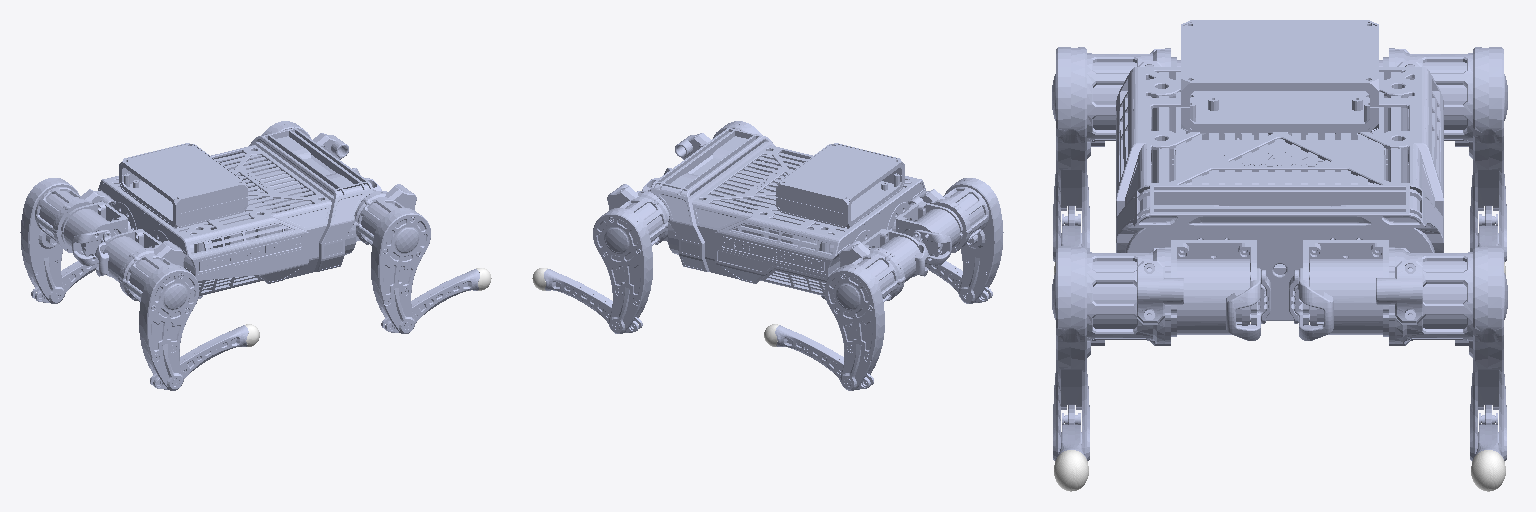
robot.urdf — Opendoge:
<?xml version="1.0" encoding="utf-8"?>
<!-- This URDF was automatically created by SolidWorks to URDF Exporter! Originally created by Stephen Brawner (brawner@gmail.com) 
     Commit Version: 1.5.1-0-g916b5db  Build Version: 1.5.7152.31018
     For more information, please see http://wiki.ros.org/sw_urdf_exporter -->
<robot
  name="Opendoge">
  <link
    name="base_link">
    <inertial>
      <origin
        xyz="0.000134773648275938 1.36367968484041E-06 0.000770353067310358"
        rpy="0 0 0" />
      <mass
        value="2.2352588780603" />
      <inertia
        ixx="0.0054247"
        ixy="1.29E-06"
        ixz="-0.0000959"
        iyy="0.0099197"
        iyz="-0.0000002"
        izz="0.013453" />
    </inertial>
    <visual>
      <origin
        xyz="0 0 0"
        rpy="0 0 0" />
      <geometry>
        <mesh
          filename="../meshes/base_link.STL" />
      </geometry>
      <material
        name="">
        <color
          rgba="0.792156862745098 0.819607843137255 0.933333333333333 1" />
      </material>
    </visual>
    <collision>
      <origin
        xyz="0 0 0.015"
        rpy="0 0 0" />
      <geometry>
        <box size="0.17 0.09 0.1" />
      </geometry>
    </collision>
  </link>
  <link
    name="FL_hip">
    <inertial>
      <origin
        xyz="-0.0019419 -0.00069982 1.3745E-06"
        rpy="0 0 0" />
      <mass
        value="0.27308" />
      <inertia
        ixx="8.83E-05"
        ixy="-0.00000146"
        ixz="0"
        iyy="8.839E-05"
        iyz="-0.00000001"
        izz="0.00010203" />
    </inertial>
    <visual>
      <origin
        xyz="0 0 0"
        rpy="0 0 0" />
      <geometry>
        <mesh
          filename="../meshes/FL_hip.STL" />
      </geometry>
      <material
        name="">
        <color
          rgba="0.79216 0.81961 0.93333 1" />
      </material>
    </visual>
    <collision>
      <origin
        xyz="0.0 0 0"
        rpy="1.56 1.56 0" />
      <geometry>
        <cylinder length="0.045" radius="0.03" />
      </geometry>
    </collision>
  </link>
  <joint
    name="FL_hip_joint"
    type="revolute">
    <origin
      xyz="0.1425 0.039989 0"
      rpy="0 0 0" />
    <parent
      link="base_link" />
    <child
      link="FL_hip" />
    <axis
      xyz="1 0 0" />
    <limit
      lower="-0.785"
      upper="0.26"
      effort="6"
      velocity="10.472" />
  </joint>
  <link
    name="FL_thigh">
    <inertial>
      <origin
        xyz="-0.0003843 -0.028095 -0.0056139"
        rpy="0 0 0" />
      <mass
        value="0.344" />
      <inertia
        ixx="0.00030277"
        ixy="-0.0000149"
        ixz="1.995E-05"
        iyy="0.00024471"
        iyz="-0.00005947"
        izz="0.00018346" />
    </inertial>
    <visual>
      <origin
        xyz="0 0 0"
        rpy="0 0 0" />
      <geometry>
        <mesh
          filename="../meshes/FL_thigh.STL" />
      </geometry>
      <material
        name="">
        <color
          rgba="0.79216 0.81961 0.93333 1" />
      </material>
    </visual>
    <collision>
      <origin
        xyz="0.004 0.0 -0.028"
        rpy="0 0.45 0" />
      <geometry>
        <box size="0.02 0.025 0.07" />
      </geometry>
    </collision>
  </link>
  <joint
    name="FL_thigh_joint"
    type="revolute">
    <origin
      xyz="0 0.08615 0"
      rpy="0 0 0" />
    <parent
      link="FL_hip" />
    <child
      link="FL_thigh" />
    <axis
      xyz="0 1 0" />
    <limit
      lower="-0.785"
      upper="1.134"
      effort="6"
      velocity="10.472" />
  </joint>
  <link
    name="FL_calf">
    <inertial>
      <origin
        xyz="0.0049765 -1.1726E-05 -0.047529"
        rpy="0 0 0" />
      <mass
        value="0.023132" />
      <inertia
        ixx="2.88E-05"
        ixy="0"
        ixz="9E-08"
        iyy="2.93E-05"
        iyz="0"
        izz="1.05E-06" />
    </inertial>
    <visual>
      <origin
        xyz="0 0 0"
        rpy="0 0 0" />
      <geometry>
        <mesh
          filename="../meshes/FL_calf.STL" />
      </geometry>
      <material
        name="">
        <color
          rgba="0.79216 0.81961 0.93333 1" />
      </material>
    </visual>
    <collision>
      <origin
        xyz="0.006 0 -0.040"
        rpy="0 -0.0 0" />
      <geometry>
        <cylinder length="0.05" radius="0.01" />
      </geometry>
    </collision>
  </link>
  <joint
    name="FL_calf_joint"
    type="revolute">
    <origin
      xyz="0 0 -0.0999999999999995"
      rpy="0 0 0" />
    <parent
      link="FL_thigh" />
    <child
      link="FL_calf" />
    <axis
      xyz="0 1 0" />
    <limit
      lower="-2.68"
      upper="-1.04"
      effort="9"
      velocity="6.981" />
  </joint>
  <link
    name="FL_foot">
    <inertial>
      <origin
        xyz="-0.000865572631019856 -1.88410314572174E-07 -0.00223318694318475"
        rpy="0 0 0" />
      <mass
        value="0.003984611677171" />
      <inertia
        ixx="2.4E-07"
        ixy="0"
        ixz="-0.00000002"
        iyy="2.6E-07"
        iyz="0"
        izz="2.9E-07" />
    </inertial>
    <visual>
      <origin
        xyz="0 0 0"
        rpy="0 0 0" />
      <geometry>
        <mesh
          filename="../meshes/FL_foot.STL" />
      </geometry>
      <material
        name="">
        <color
          rgba="1 1 1 1" />
      </material>
    </visual>
    <collision>
      <origin
        xyz="0 0 0"
        rpy="0 0 0" />
      <geometry>
        <sphere radius="0.015" />
      </geometry>
    </collision>
  </link>
  <joint
    name="FL_foot_joint"
    type="fixed" dont_collapse="true">
    <origin
      xyz="-1.19560528428764E-05 0 -0.0993915326022981"
      rpy="0 0 0" />
    <parent
      link="FL_calf" />
    <child
      link="FL_foot" />
    <axis
      xyz="0 0 0" />
  </joint>
  <link
    name="FR_hip">
    <inertial>
      <origin
        xyz="-0.0019419 0.00069983 1.3735E-06"
        rpy="0 0 0" />
      <mass
        value="0.27308" />
      <inertia
        ixx="8.83E-05"
        ixy="1.46E-06"
        ixz="0"
        iyy="8.839E-05"
        iyz="1E-08"
        izz="0.00010203" />
    </inertial>
    <visual>
      <origin
        xyz="0 0 0"
        rpy="0 0 0" />
      <geometry>
        <mesh
          filename="../meshes/FR_hip.STL" />
      </geometry>
      <material
        name="">
        <color
          rgba="0.79216 0.81961 0.93333 1" />
      </material>
    </visual>
    <collision>
      <origin
        xyz="0.0 0 0"
        rpy="1.56 1.56 0" />
      <geometry>
        <cylinder length="0.045" radius="0.03" />
      </geometry>
    </collision>
  </link>
  <joint
    name="FR_hip_joint"
    type="revolute">
    <origin
      xyz="0.142499999999858 -0.0400749999976656 0"
      rpy="0 0 0" />
    <parent
      link="base_link" />
    <child
      link="FR_hip" />
    <axis
      xyz="1 0 0" />
    <limit
      lower="-0.26"
      upper="0.785"
      effort="6"
      velocity="10.472" />
  </joint>
  <link
    name="FR_thigh">
    <inertial>
      <origin
        xyz="-0.00039283 0.028155 -0.0056112"
        rpy="0 0 0" />
      <mass
        value="0.344" />
      <inertia
        ixx="0.00030298"
        ixy="1.489E-05"
        ixz="1.994E-05"
        iyy="0.00024472"
        iyz="5.959E-05"
        izz="0.00018366" />
    </inertial>
    <visual>
      <origin
        xyz="0 0 0"
        rpy="0 0 0" />
      <geometry>
        <mesh
          filename="../meshes/FR_thigh.STL" />
      </geometry>
      <material
        name="">
        <color
          rgba="0.79216 0.81961 0.93333 1" />
      </material>
    </visual>
    <collision>
      <origin
        xyz="0.004 0.0 -0.028"
        rpy="0 0.45 0" />
      <geometry>
        <box size="0.02 0.025 0.07" />
      </geometry>
    </collision>
  </link>
  <joint
    name="FR_thigh_joint"
    type="revolute">
    <origin
      xyz="0 -0.0861000000019044 0"
      rpy="0 0 0" />
    <parent
      link="FR_hip" />
    <child
      link="FR_thigh" />
    <axis
      xyz="0 1 0" />
    <limit
      lower="-0.785"
      upper="1.134"
      effort="6"
      velocity="10.472" />
  </joint>
  <link
    name="FR_calf">
    <inertial>
      <origin
        xyz="0.00497648448877838 -1.17258056406416E-05 -0.0475293389060001"
        rpy="0 0 0" />
      <mass
        value="0.0231322296621475" />
      <inertia
        ixx="2.88E-05"
        ixy="0"
        ixz="9E-08"
        iyy="2.93E-05"
        iyz="0"
        izz="1.05E-06" />
    </inertial>
    <visual>
      <origin
        xyz="0 0 0"
        rpy="0 0 0" />
      <geometry>
        <mesh
          filename="../meshes/FR_calf.STL" />
      </geometry>
      <material
        name="">
        <color
          rgba="0.792156862745098 0.819607843137255 0.933333333333333 1" />
      </material>
    </visual>
    <collision>
      <origin
        xyz="0.006 0 -0.040"
        rpy="0 -0.0 0" />
      <geometry>
        <cylinder length="0.05" radius="0.01" />
      </geometry>
    </collision>
  </link>
  <joint
    name="FR_calf_joint"
    type="revolute">
    <origin
      xyz="0 0 -0.0999999999999996"
      rpy="0 0 0" />
    <parent
      link="FR_thigh" />
    <child
      link="FR_calf" />
    <axis
      xyz="0 1 0" />
    <limit
      lower="-2.68"
      upper="-1.04"
      effort="9"
      velocity="6.981" />
  </joint>
  <link
    name="FR_foot">
    <inertial>
      <origin
        xyz="-0.00086557 -1.8841E-07 -0.0022332"
        rpy="0 0 0" />
      <mass
        value="0.0039846" />
      <inertia
        ixx="2.4E-07"
        ixy="0"
        ixz="-0.00000002"
        iyy="2.6E-07"
        iyz="0"
        izz="2.9E-07" />
    </inertial>
    <visual>
      <origin
        xyz="0 0 0"
        rpy="0 0 0" />
      <geometry>
        <mesh
          filename="../meshes/FR_foot.STL" />
      </geometry>
      <material
        name="">
        <color
          rgba="1 1 1 1" />
      </material>
    </visual>
    <collision>
      <origin
        xyz="0 0 0"
        rpy="0 0 0" />
      <geometry>
        <sphere radius="0.015" />
      </geometry>
    </collision>
  </link>
  <joint
    name="FR_foot_joint"
    type="fixed" dont_collapse="true">
    <origin
      xyz="-1.19560528428764E-05 0 -0.0993915326022981"
      rpy="0 0 0" />
    <parent
      link="FR_calf" />
    <child
      link="FR_foot" />
    <axis
      xyz="0 0 0" />
  </joint>
  <link
    name="RL_hip">
    <inertial>
      <origin
        xyz="0.0019419 -0.00069983 1.3735E-06"
        rpy="0 0 0" />
      <mass
        value="0.27308" />
      <inertia
        ixx="8.83E-05"
        ixy="1.46E-06"
        ixz="0"
        iyy="8.839E-05"
        iyz="-0.00000001"
        izz="0.00010203" />
    </inertial>
    <visual>
      <origin
        xyz="0 0 0"
        rpy="0 0 0" />
      <geometry>
        <mesh
          filename="../meshes/RL_hip.STL" />
      </geometry>
      <material
        name="">
        <color
          rgba="0.79216 0.81961 0.93333 1" />
      </material>
    </visual>
    <collision>
      <origin
        xyz="0.0 0 0"
        rpy="1.56 1.56 0" />
      <geometry>
        <cylinder length="0.045" radius="0.03" />
      </geometry>
    </collision>
  </link>
  <joint
    name="RL_hip_joint"
    type="revolute">
    <origin
      xyz="-0.1425 0.040025 0"
      rpy="0 0 0" />
    <parent
      link="base_link" />
    <child
      link="RL_hip" />
    <axis
      xyz="1 0 0" />
    <limit
      lower="-0.785"
      upper="0.26"
      effort="6"
      velocity="10.472" />
  </joint>
  <link
    name="RL_thigh">
    <inertial>
      <origin
        xyz="-0.0003843 -0.028095 -0.0056139"
        rpy="0 0 0" />
      <mass
        value="0.344" />
      <inertia
        ixx="0.00030277"
        ixy="-0.0000149"
        ixz="1.995E-05"
        iyy="0.00024471"
        iyz="-0.00005947"
        izz="0.00018346" />
    </inertial>
    <visual>
      <origin
        xyz="0 0 0"
        rpy="0 0 0" />
      <geometry>
        <mesh
          filename="../meshes/RL_thigh.STL" />
      </geometry>
      <material
        name="">
        <color
          rgba="0.79216 0.81961 0.93333 1" />
      </material>
    </visual>
    <collision>
      <origin
        xyz="0.004 0.0 -0.028"
        rpy="0 0.45 0" />
      <geometry>
        <box size="0.02 0.025 0.07" />
      </geometry>
    </collision>
  </link>
  <joint
    name="RL_thigh_joint"
    type="revolute">
    <origin
      xyz="0 0.08615 0"
      rpy="0 0 0" />
    <parent
      link="RL_hip" />
    <child
      link="RL_thigh" />
    <axis
      xyz="0 1 0" />
    <limit
      lower="-0.785"
      upper="1.134"
      effort="6"
      velocity="10.472" />
  </joint>
  <link
    name="RL_calf">
    <inertial>
      <origin
        xyz="0.0049765 -1.1726E-05 -0.047529"
        rpy="0 0 0" />
      <mass
        value="0.023132" />
      <inertia
        ixx="2.88E-05"
        ixy="0"
        ixz="9E-08"
        iyy="2.93E-05"
        iyz="0"
        izz="1.05E-06" />
    </inertial>
    <visual>
      <origin
        xyz="0 0 0"
        rpy="0 0 0" />
      <geometry>
        <mesh
          filename="../meshes/RL_calf.STL" />
      </geometry>
      <material
        name="">
        <color
          rgba="0.79216 0.81961 0.93333 1" />
      </material>
    </visual>
    <collision>
      <origin
        xyz="0.006 0 -0.040"
        rpy="0 -0.0 0" />
      <geometry>
        <cylinder length="0.05" radius="0.01" />
      </geometry>
    </collision>
  </link>
  <joint
    name="RL_calf_joint"
    type="revolute">
    <origin
      xyz="0 0 -0.0999999999999996"
      rpy="0 0 0" />
    <parent
      link="RL_thigh" />
    <child
      link="RL_calf" />
    <axis
      xyz="0 1 0" />
    <limit
      lower="-2.68"
      upper="-1.04"
      effort="9"
      velocity="6.981" />
  </joint>
  <link
    name="RL_foot">
    <inertial>
      <origin
        xyz="-0.00086557 -1.8841E-07 -0.0022332"
        rpy="0 0 0" />
      <mass
        value="0.0039846" />
      <inertia
        ixx="2.4E-07"
        ixy="0"
        ixz="-0.00000002"
        iyy="2.6E-07"
        iyz="0"
        izz="2.9E-07" />
    </inertial>
    <visual>
      <origin
        xyz="0 0 0"
        rpy="0 0 0" />
      <geometry>
        <mesh
          filename="../meshes/RL_foot.STL" />
      </geometry>
      <material
        name="">
        <color
          rgba="1 1 1 1" />
      </material>
    </visual>
    <collision>
      <origin
        xyz="0 0 0"
        rpy="0 0 0" />
      <geometry>
        <sphere radius="0.015" />
      </geometry>
    </collision>
  </link>
  <joint
    name="RL_foot_joint"
    type="fixed" dont_collapse="true">
    <origin
      xyz="-1.19560528427792E-05 0 -0.099391532602298"
      rpy="0 0 0" />
    <parent
      link="RL_calf" />
    <child
      link="RL_foot" />
    <axis
      xyz="0 0 0" />
  </joint>
  <link
    name="RR_hip">
    <inertial>
      <origin
        xyz="0.0019419 0.00069982 1.3745E-06"
        rpy="0 0 0" />
      <mass
        value="0.27308" />
      <inertia
        ixx="8.83E-05"
        ixy="-0.00000146"
        ixz="0"
        iyy="8.839E-05"
        iyz="1E-08"
        izz="0.00010203" />
    </inertial>
    <visual>
      <origin
        xyz="0 0 0"
        rpy="0 0 0" />
      <geometry>
        <mesh
          filename="../meshes/RR_hip.STL" />
      </geometry>
      <material
        name="">
        <color
          rgba="0.79216 0.81961 0.93333 1" />
      </material>
    </visual>
    <collision>
      <origin
        xyz="0.0 0 0"
        rpy="1.56 1.56 0" />
      <geometry>
        <cylinder length="0.045" radius="0.03" />
      </geometry>
    </collision>
  </link>
  <joint
    name="RR_hip_joint"
    type="revolute">
    <origin
      xyz="-0.1425 -0.040025 0"
      rpy="0 0 0" />
    <parent
      link="base_link" />
    <child
      link="RR_hip" />
    <axis
      xyz="1 0 0" />
    <limit
      lower="-0.26"
      upper="0.785"
      effort="6"
      velocity="10.472" />
  </joint>
  <link
    name="RR_thigh">
    <inertial>
      <origin
        xyz="-0.00039283 0.028155 -0.0056112"
        rpy="0 0 0" />
      <mass
        value="0.344" />
      <inertia
        ixx="0.00030298"
        ixy="1.489E-05"
        ixz="1.994E-05"
        iyy="0.00024472"
        iyz="5.959E-05"
        izz="0.00018366" />
    </inertial>
    <visual>
      <origin
        xyz="0 0 0"
        rpy="0 0 0" />
      <geometry>
        <mesh
          filename="../meshes/RR_thigh.STL" />
      </geometry>
      <material
        name="">
        <color
          rgba="0.79216 0.81961 0.93333 1" />
      </material>
    </visual>
    <collision>
      <origin
        xyz="0.004 0.0 -0.028"
        rpy="0 0.45 0" />
      <geometry>
        <box size="0.02 0.025 0.07" />
      </geometry>
    </collision>
  </link>
  <joint
    name="RR_thigh_joint"
    type="revolute">
    <origin
      xyz="0 -0.0861499999999285 0"
      rpy="0 0 0" />
    <parent
      link="RR_hip" />
    <child
      link="RR_thigh" />
    <axis
      xyz="0 1 0" />
    <limit
      lower="-0.785"
      upper="1.134"
      effort="6"
      velocity="10.472" />
  </joint>
  <link
    name="RR_calf">
    <inertial>
      <origin
        xyz="0.0049765 -1.1726E-05 -0.047529"
        rpy="0 0 0" />
      <mass
        value="0.023132" />
      <inertia
        ixx="2.88E-05"
        ixy="0"
        ixz="9E-08"
        iyy="2.93E-05"
        iyz="0"
        izz="1.05E-06" />
    </inertial>
    <visual>
      <origin
        xyz="0 0 0"
        rpy="0 0 0" />
      <geometry>
        <mesh
          filename="../meshes/RR_calf.STL" />
      </geometry>
      <material
        name="">
        <color
          rgba="0.79216 0.81961 0.93333 1" />
      </material>
    </visual>
    <collision>
      <origin
        xyz="0.006 0 -0.040"
        rpy="0 -0.0 0" />
      <geometry>
        <cylinder length="0.05" radius="0.01" />
      </geometry>
    </collision>
  </link>
  <joint
    name="RR_calf_joint"
    type="revolute">
    <origin
      xyz="0 0 -0.1"
      rpy="0 0 0" />
    <parent
      link="RR_thigh" />
    <child
      link="RR_calf" />
    <axis
      xyz="0 1 0" />
    <limit
      lower="-2.68"
      upper="-1.04"
      effort="9"
      velocity="6.981" />
  </joint>
  <link
    name="RR_foot">
    <inertial>
      <origin
        xyz="-0.00086557 -1.8841E-07 -0.0022332"
        rpy="0 0 0" />
      <mass
        value="0.0039846" />
      <inertia
        ixx="2.4E-07"
        ixy="0"
        ixz="-0.00000002"
        iyy="2.6E-07"
        iyz="0"
        izz="2.9E-07" />
    </inertial>
    <visual>
      <origin
        xyz="0 0 0"
        rpy="0 0 0" />
      <geometry>
        <mesh
          filename="../meshes/RR_foot.STL" />
      </geometry>
      <material
        name="">
        <color
          rgba="1 1 1 1" />
      </material>
    </visual>
    <collision>
      <origin
        xyz="0 0 0"
        rpy="0 0 0" />
      <geometry>
        <sphere radius="0.015" />
      </geometry>
    </collision>
  </link>
  <joint
    name="RR_foot_joint"
    type="fixed" dont_collapse="true">
    <origin
      xyz="-1.19560528427237E-05 0 -0.0993915326022981"
      rpy="0 0 0" />
    <parent
      link="RR_calf" />
    <child
      link="RR_foot" />
    <axis
      xyz="0 0 0" />
  </joint>
</robot>

--- What the picture shows (computed from the rendered views, not written in the file) ---
Views: 3 orthographic renders of the robot side by side, from view 1: azimuth 30°, elevation 25°; view 2: azimuth 150°, elevation 25°; view 3: azimuth 270°, elevation 25°.
Robot: Opendoge — 17 links, 16 joints (12 revolute, 4 fixed); root link base_link; default pose: all joints at 0 but 4 set to mid-range because 0 is outside their limits (FL_calf_joint = -1.86, FR_calf_joint = -1.86, RL_calf_joint = -1.86, RR_calf_joint = -1.86).
Visible links, largest first — view 1: base_link, RR_thigh, FR_thigh, RL_thigh, RL_hip, RR_hip, RR_calf, FR_calf, FL_thigh, RL_calf; view 2: base_link, RL_thigh, FL_thigh, RR_thigh, RR_hip, RL_hip, FL_calf, RL_calf, FR_thigh, RR_calf; view 3: base_link, FR_thigh, FL_thigh, RL_thigh, RR_thigh, FL_hip, FR_hip, FL_foot, FR_foot, FL_calf, FR_calf.
Link boxes in pixels (bbox=[...]): base_link: bbox=[98, 127, 373, 298]; RR_thigh: bbox=[118, 241, 199, 390]; FR_thigh: bbox=[354, 184, 430, 333]; RL_thigh: bbox=[20, 178, 115, 303]; RL_hip: bbox=[61, 201, 131, 266]; RR_hip: bbox=[95, 229, 161, 281]; RR_calf: bbox=[150, 325, 248, 389]; FR_calf: bbox=[381, 269, 479, 332]; FL_thigh: bbox=[262, 121, 348, 159]; RL_calf: bbox=[31, 261, 97, 302]; base_link: bbox=[650, 127, 925, 299]; RL_thigh: bbox=[824, 241, 905, 390]; FL_thigh: bbox=[593, 184, 669, 333]; RR_thigh: bbox=[908, 178, 1003, 303]; RR_hip: bbox=[892, 201, 962, 266]; RL_hip: bbox=[862, 229, 928, 281]; FL_calf: bbox=[544, 269, 642, 332]; RL_calf: bbox=[775, 325, 873, 389]; FR_thigh: bbox=[675, 121, 761, 159]; RR_calf: bbox=[926, 261, 992, 302]; base_link: bbox=[1116, 20, 1443, 320]; FR_thigh: bbox=[1052, 246, 1183, 460]; FL_thigh: bbox=[1376, 246, 1507, 460]; RL_thigh: bbox=[1389, 47, 1507, 261]; RR_thigh: bbox=[1052, 47, 1170, 261]; FL_hip: bbox=[1289, 240, 1388, 340]; FR_hip: bbox=[1171, 240, 1270, 340]; FL_foot: bbox=[1471, 450, 1505, 491]; FR_foot: bbox=[1054, 450, 1088, 491]; FL_calf: bbox=[1472, 424, 1503, 460]; FR_calf: bbox=[1055, 424, 1086, 460].
Bounding box of the posed robot: 0.4276 × 0.2764 × 0.1831 m (x, y, z).
17 mesh visuals loaded from 17 distinct referenced files (17 binary STL).
